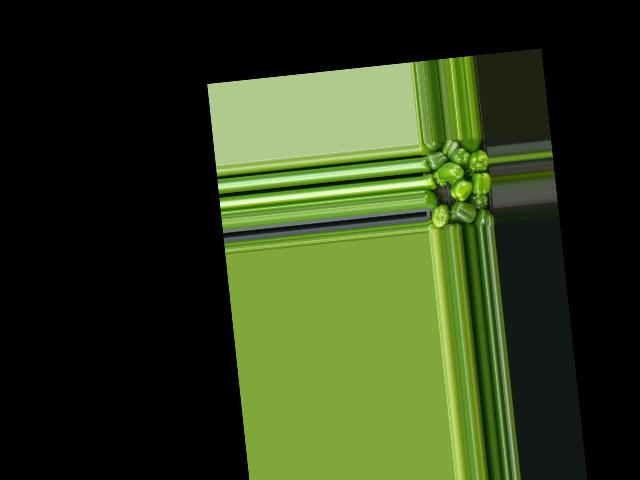bell_pepper: (457, 136, 478, 152)
